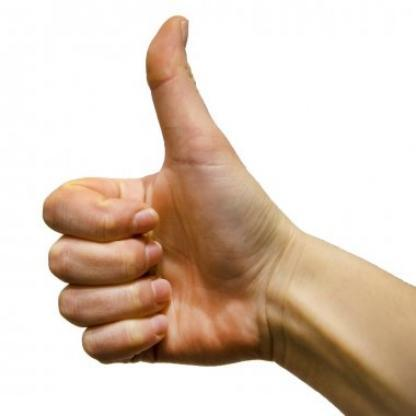thumb_up: (38, 11, 276, 368)
